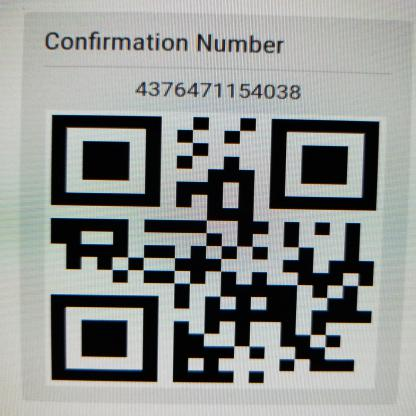qr: (43, 110, 377, 386)
